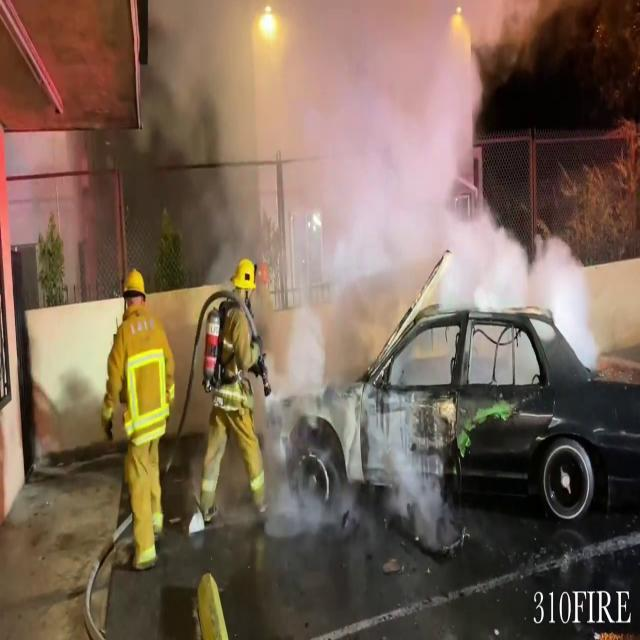Smoke: (148, 1, 580, 317)
